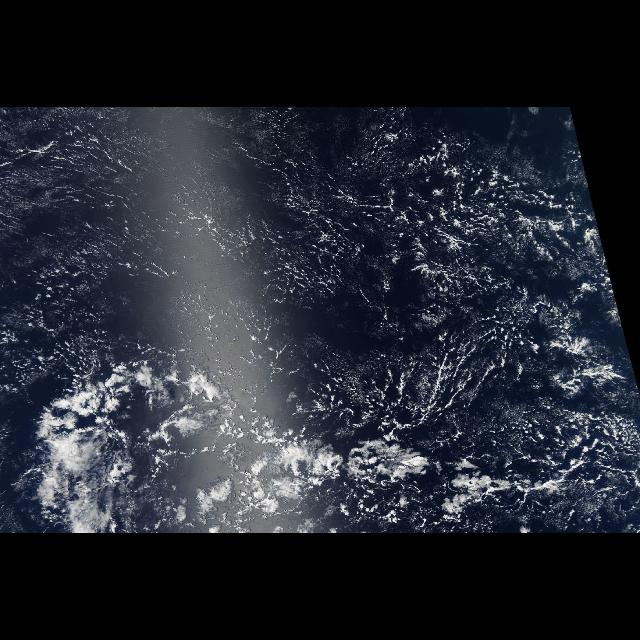Gravel: (125, 123, 640, 533)
Sugar: (0, 107, 444, 353), (19, 356, 421, 534), (434, 387, 640, 521)
